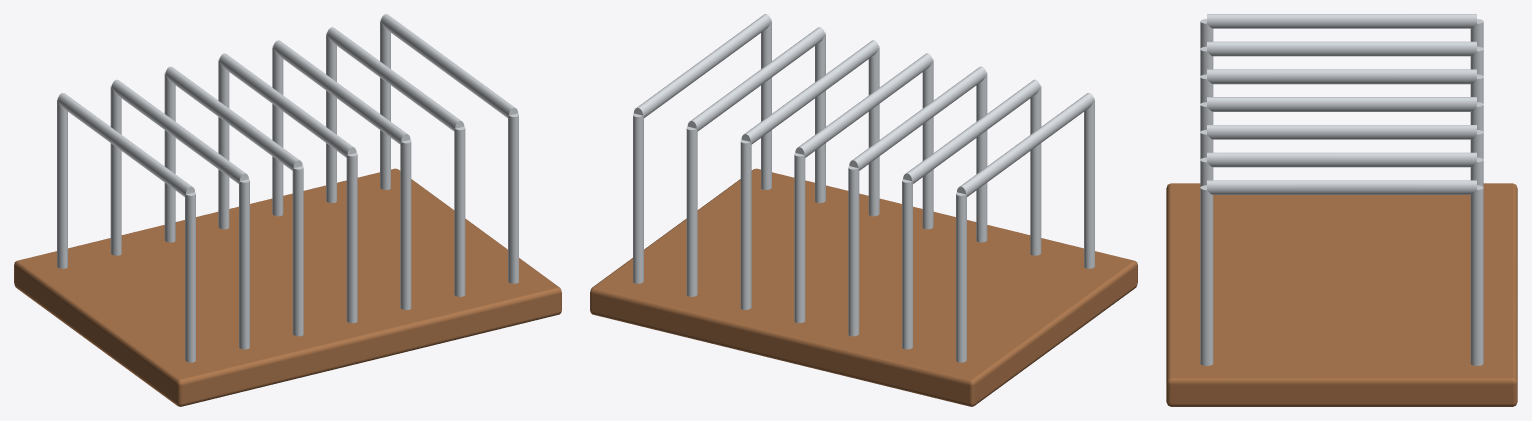
The model's file is wp-egouttoir-a-vaisselle.glb.
3 views of the same model, side by side, from view 1: azimuth 30°, elevation 25°; view 2: azimuth 150°, elevation 25°; view 3: azimuth 270°, elevation 25° (orthographic). The views are drawn at different scales.
Parts seen in each view (by area): view 1: wp-egouttoir-a-vaisselle; view 2: wp-egouttoir-a-vaisselle; view 3: wp-egouttoir-a-vaisselle.
Part boxes in pixels (x1,y1,x2,y2): wp-egouttoir-a-vaisselle: [14, 14, 561, 406]; wp-egouttoir-a-vaisselle: [590, 14, 1137, 406]; wp-egouttoir-a-vaisselle: [1166, 14, 1517, 406].
Size of the model in its own units: 0.4 by 0.2 by 0.3.
